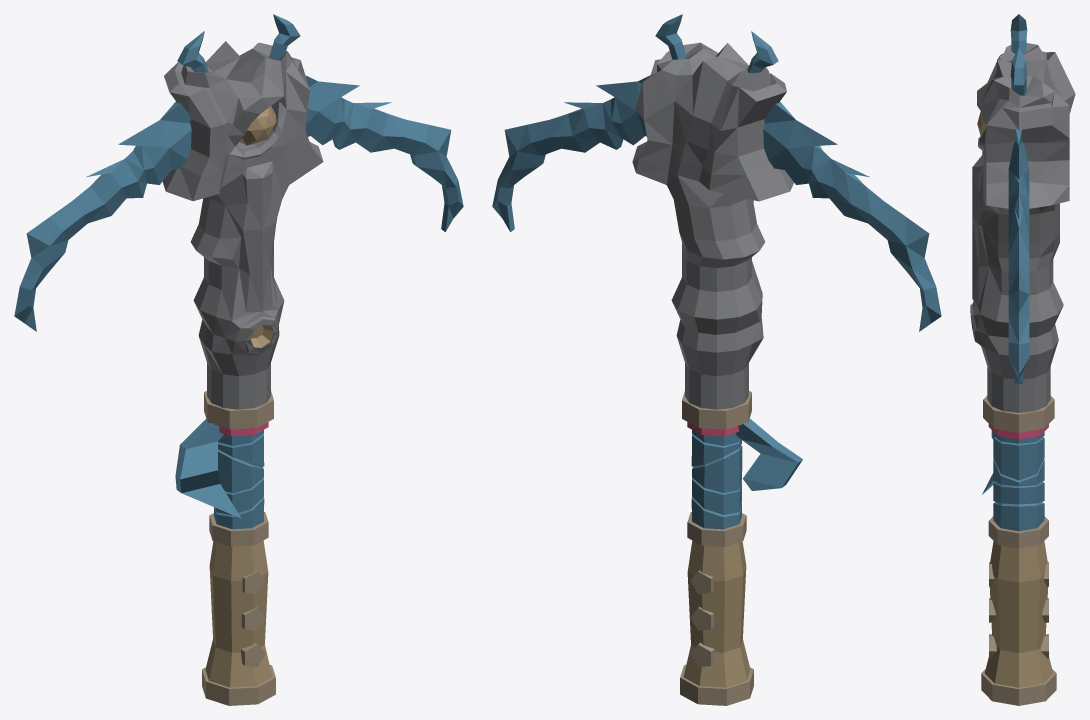
File: _crossbow_18.glb
3 renders of one model, left to right at view 1: azimuth 30°, elevation 25°; view 2: azimuth 150°, elevation 25°; view 3: azimuth 270°, elevation 25°, orthographic.
Visible parts, largest first — view 1: crossbow_18; view 2: crossbow_18; view 3: crossbow_18.
Part boxes in pixels (box(x1,y1,x2,y2)): crossbow_18: box(14, 14, 463, 705); crossbow_18: box(492, 14, 941, 705); crossbow_18: box(970, 14, 1075, 705).
Size of the model in its own units: 21017 by 29856 by 4319.
1 material, 1 textured.
